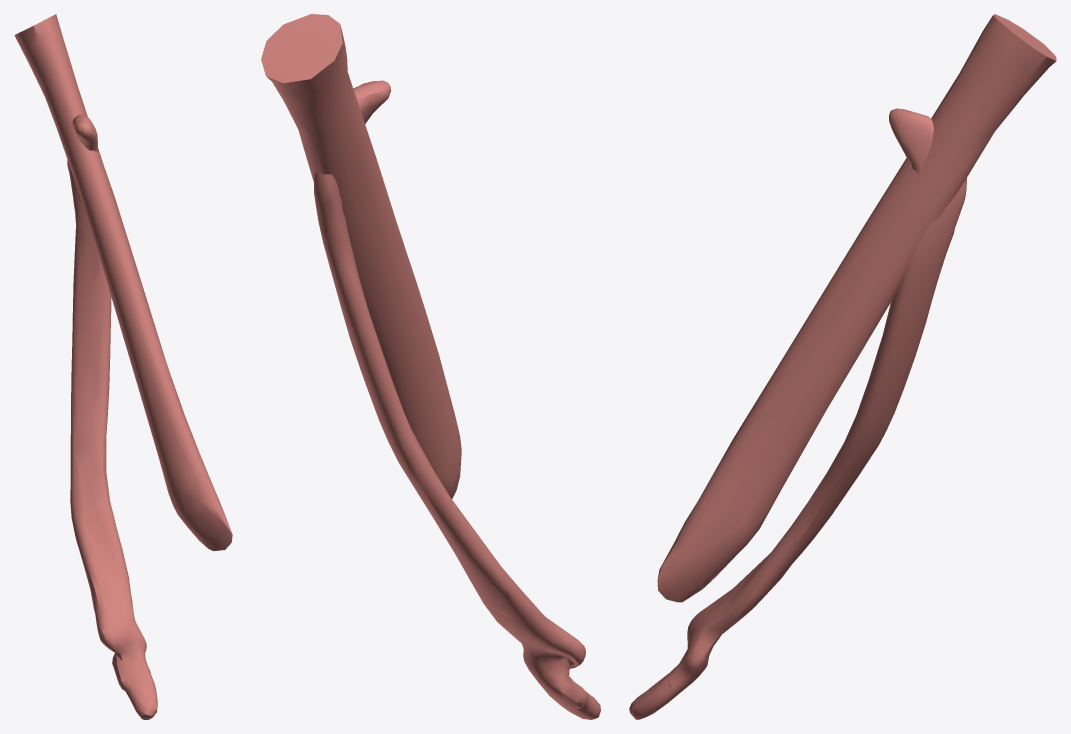
The model's file is fma39582_mm1959m.glb.
The picture shows the model from 3 angles, left to right: view 1: azimuth 30°, elevation 25°; view 2: azimuth 150°, elevation 25°; view 3: azimuth 270°, elevation 25°; orthographic projection. The views are drawn at different scales.
Visible parts, largest first — view 1: FMA39582_MM1959M; view 2: FMA39582_MM1959M; view 3: FMA39582_MM1959M.
Part boxes in pixels (left/top/right/bottom): FMA39582_MM1959M: left=14, top=14, right=232, bottom=719; FMA39582_MM1959M: left=261, top=14, right=600, bottom=719; FMA39582_MM1959M: left=629, top=14, right=1056, bottom=719.
Size of the model in its own units: 0.0088 by 0.0428 by 0.0228.
